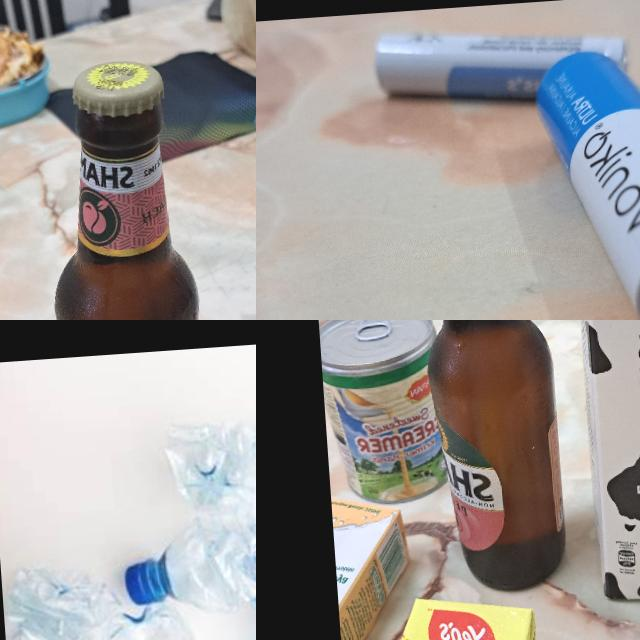aba de lata: (355, 320, 388, 344)
bateria: (536, 41, 640, 320), (372, 16, 628, 108)
caixinha: (370, 588, 539, 640)
garrafa de vidro: (39, 56, 214, 320), (415, 320, 568, 596)
garrafa plástica: (156, 510, 256, 613), (0, 559, 122, 640), (164, 414, 256, 513), (96, 598, 239, 640)
lata: (318, 320, 446, 505)
tampa plástica: (122, 562, 148, 606)
